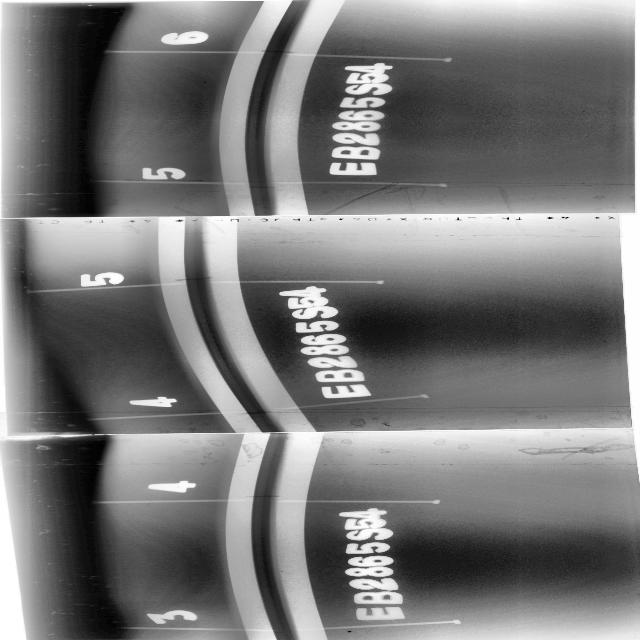porosity: (247, 399, 252, 402), (260, 536, 265, 539), (253, 160, 260, 162), (198, 298, 204, 300), (255, 173, 261, 175), (262, 563, 268, 565), (265, 576, 269, 579), (203, 315, 208, 317), (256, 108, 261, 110), (259, 96, 264, 98), (257, 176, 261, 178), (271, 601, 275, 603), (254, 169, 261, 170), (217, 348, 220, 350), (259, 511, 262, 513), (267, 478, 270, 480), (262, 550, 265, 552), (227, 368, 232, 369), (239, 390, 244, 391), (265, 584, 270, 585), (257, 103, 261, 104), (274, 613, 278, 614), (233, 378, 236, 379), (260, 530, 263, 531), (198, 288, 201, 289)
